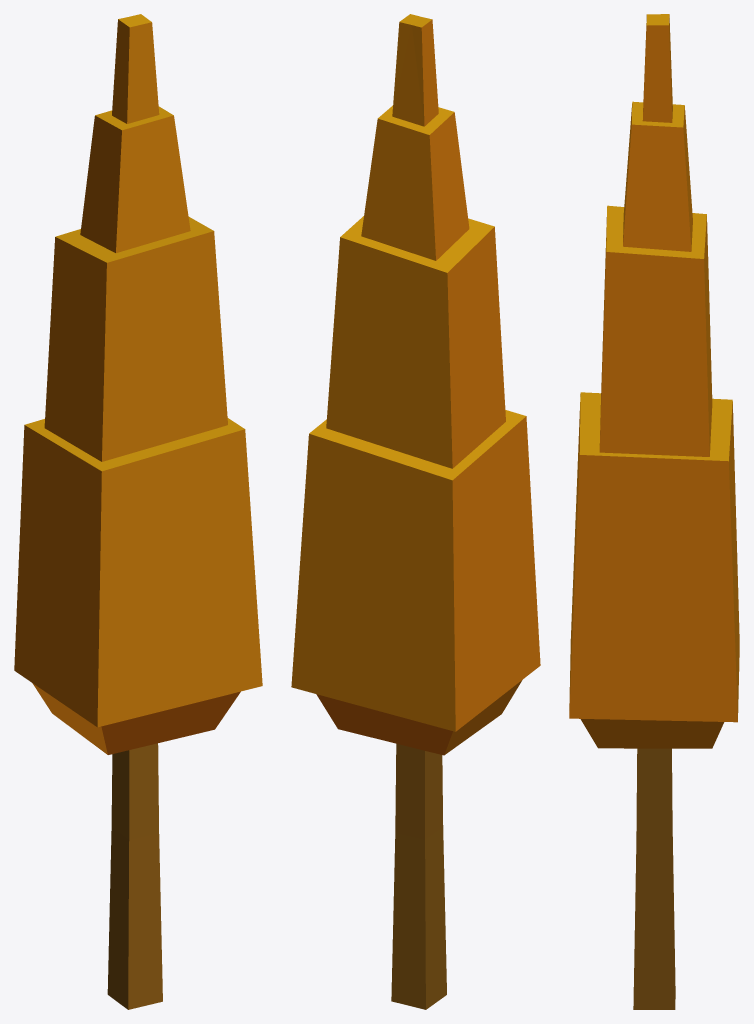
File: SF_Env_Tree_Fall_11.fbx
3 renders of one model, left to right at view 1: azimuth 30°, elevation 25°; view 2: azimuth 150°, elevation 25°; view 3: azimuth 270°, elevation 25°, orthographic.
Visible parts, largest first — view 1: SF_Env_Tree_Fall_11; view 2: SF_Env_Tree_Fall_11; view 3: SF_Env_Tree_Fall_11.
Part boxes in pixels (<box>): SF_Env_Tree_Fall_11: <box>14,14,262,1009</box>; SF_Env_Tree_Fall_11: <box>291,14,540,1009</box>; SF_Env_Tree_Fall_11: <box>569,14,739,1009</box>.
Bounding box in the file's own units: 2.29 × 12.92 × 2.03.
